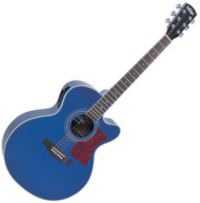guitar: (3, 2, 198, 201)
